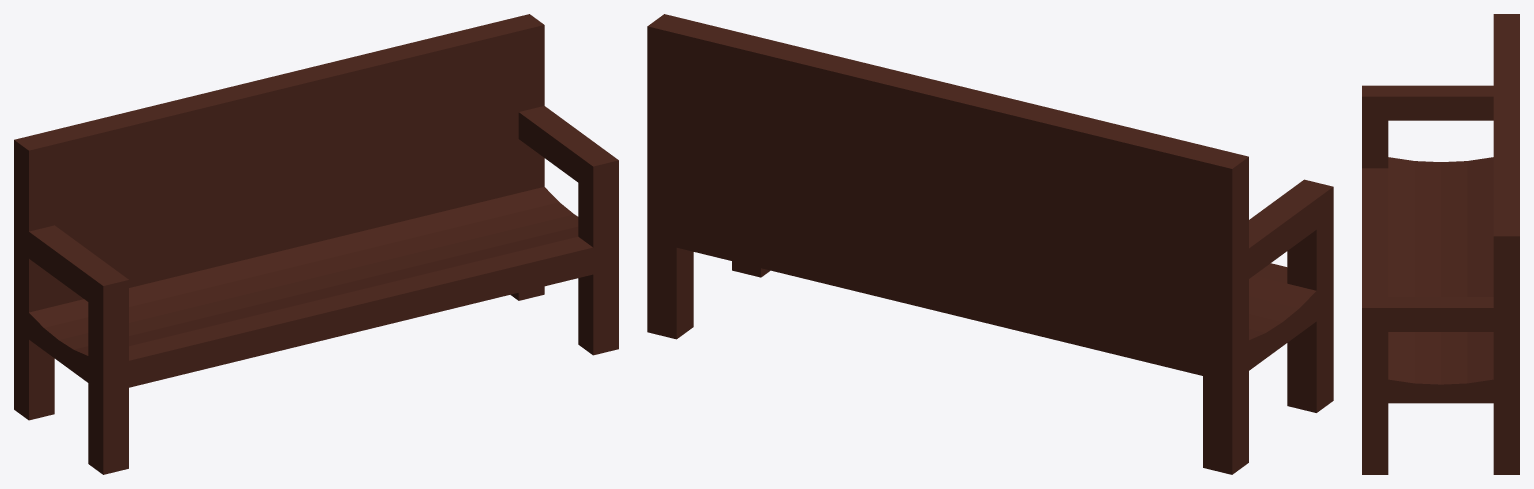
File: bench_01.fbx
3 renders of one model, left to right at view 1: azimuth 30°, elevation 25°; view 2: azimuth 150°, elevation 25°; view 3: azimuth 270°, elevation 25°, orthographic. The views are drawn at different scales.
Parts seen in each view (by area): view 1: Bench_01; view 2: Bench_01; view 3: Bench_01.
Boxes of the visible parts, x1=… form: Bench_01: x1=14, y1=14, x2=618, y2=474; Bench_01: x1=647, y1=14, x2=1333, y2=474; Bench_01: x1=1362, y1=14, x2=1519, y2=474.
Size of the model in its own units: 200 by 100 by 60.
